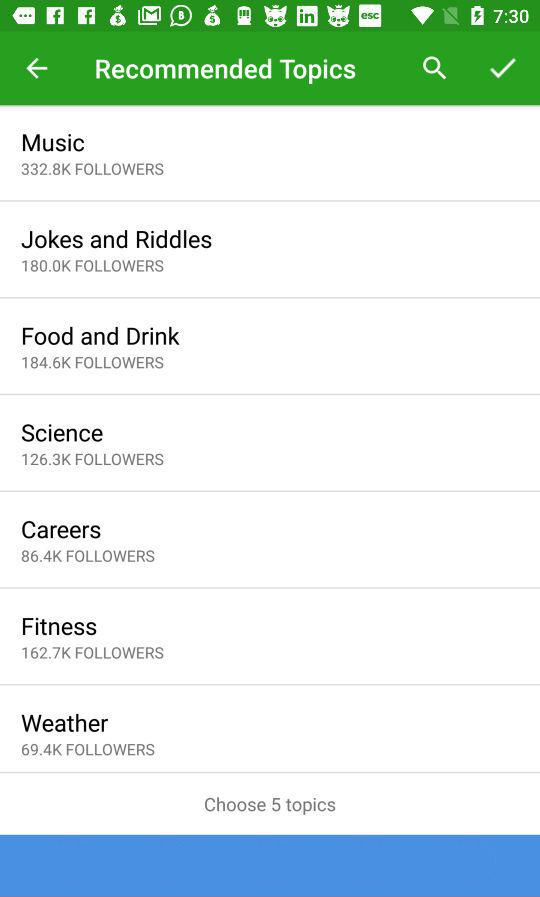Icon: (422, 56, 447, 81), (489, 58, 517, 80), (26, 58, 49, 80)
Text: (96, 59, 356, 86), (22, 230, 213, 250), (23, 327, 180, 347), (205, 796, 336, 816), (23, 646, 165, 660), (23, 356, 165, 370), (23, 259, 165, 273), (23, 163, 165, 177), (22, 549, 156, 563), (23, 454, 165, 467), (22, 743, 156, 756), (22, 714, 109, 733), (22, 423, 104, 443), (22, 520, 102, 540), (23, 617, 98, 636), (24, 134, 86, 153)
Toolbar: (1, 33, 540, 106)
UpperTaskBar: (1, 1, 540, 33)
